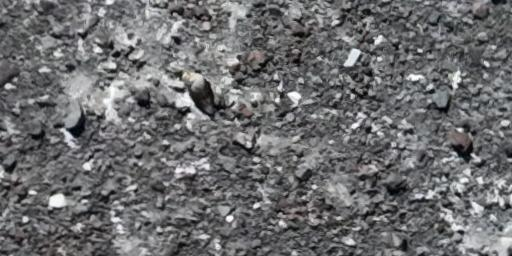skua: (181, 72, 220, 119)
